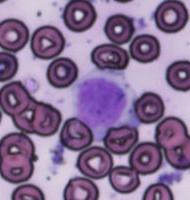M: (71, 72, 130, 128)
